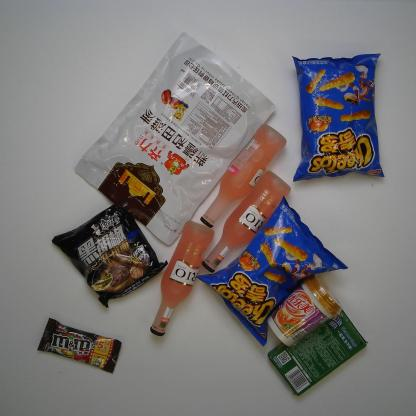Alcohol: (201, 172, 292, 272), (200, 123, 285, 230), (148, 219, 218, 337)
Chocolate: (35, 316, 122, 376)
Dessert: (265, 306, 368, 400)
Dried Food: (73, 31, 276, 246)
Instant Drink: (263, 274, 343, 346)
Instant Noodles: (51, 196, 171, 311)
Puffed Food: (193, 197, 344, 348), (289, 53, 385, 178)
